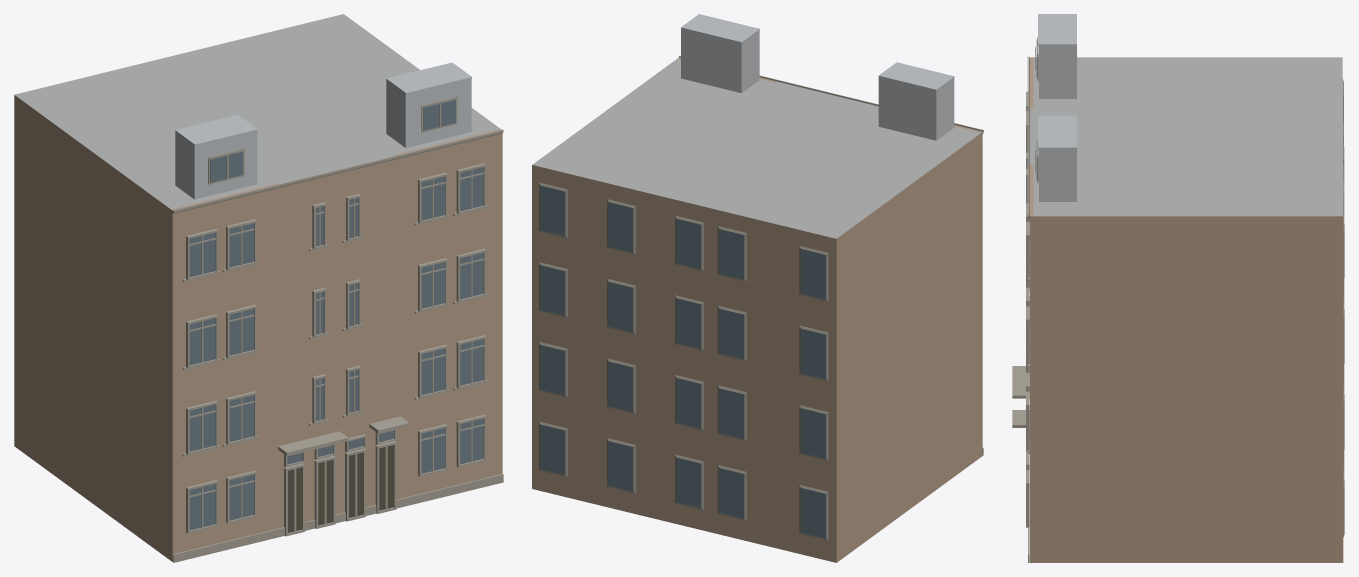
File: chunk-face-haen-6-62-r2.glb
3 renders of one model, left to right at view 1: azimuth 30°, elevation 25°; view 2: azimuth 150°, elevation 25°; view 3: azimuth 270°, elevation 25°, orthographic. The views are drawn at different scales.
Visible parts, largest first — view 1: face-haen-6-62-r2; view 2: face-haen-6-62-r2; view 3: face-haen-6-62-r2.
Boxes of the visible parts, bbox=[...] form: face-haen-6-62-r2: bbox=[14, 14, 503, 562]; face-haen-6-62-r2: bbox=[532, 14, 983, 562]; face-haen-6-62-r2: bbox=[1012, 14, 1344, 562].
Bounding box in the file's own units: 12.82 × 15.16 × 11.33.
